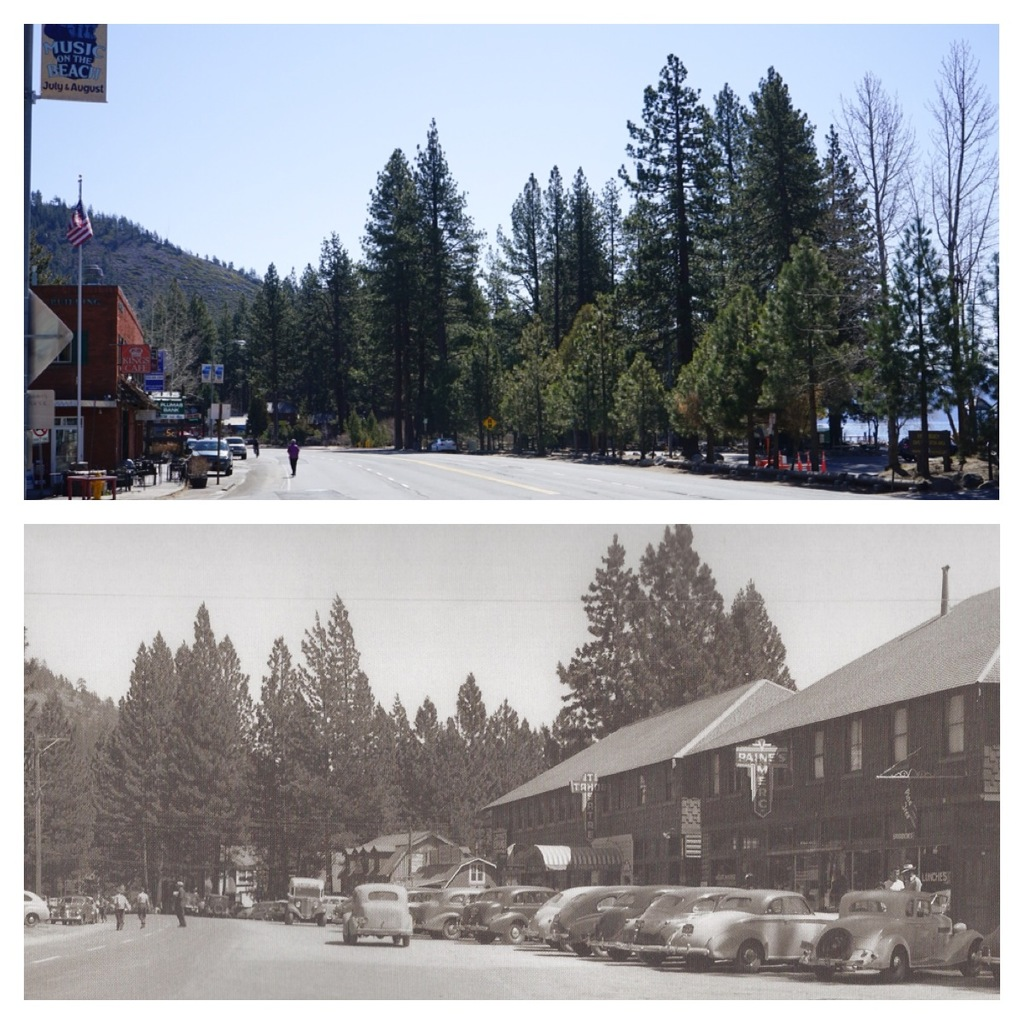Tree: (139, 44, 992, 474), (258, 527, 800, 901), (81, 600, 270, 933), (20, 633, 79, 908), (28, 183, 69, 284)
